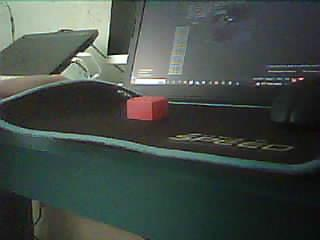lego: (126, 97, 169, 121)
